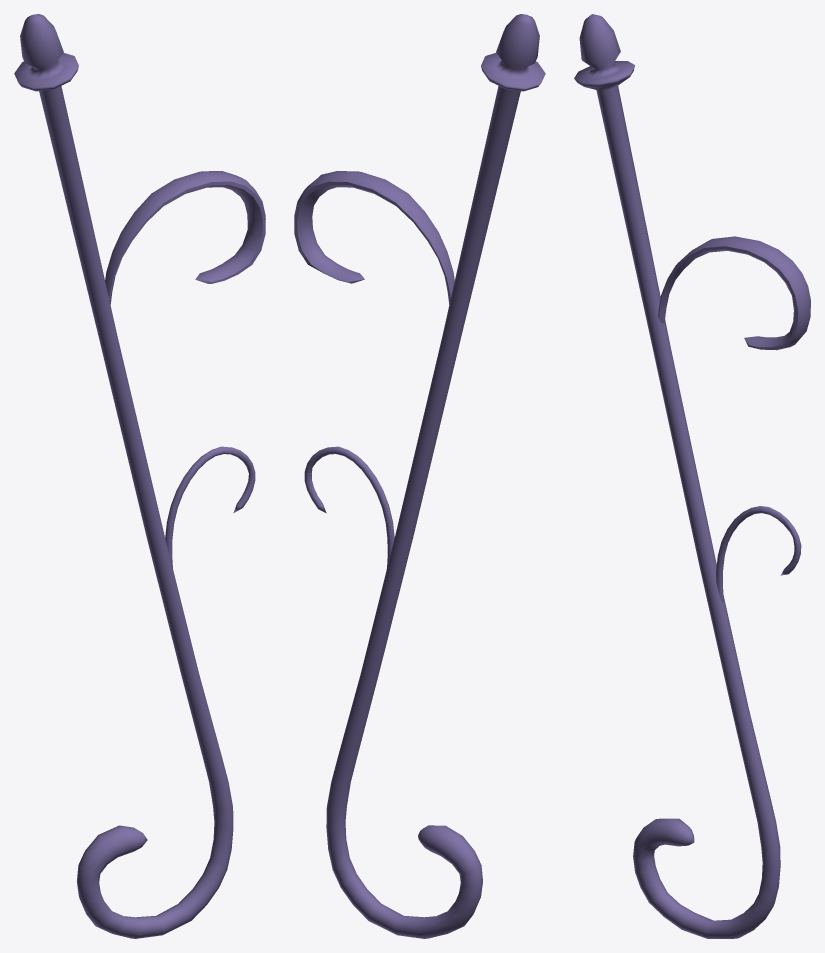
File: Torch.fbx
The picture shows the model from 3 angles, left to right: view 1: azimuth 30°, elevation 25°; view 2: azimuth 150°, elevation 25°; view 3: azimuth 330°, elevation 25°; orthographic projection. The views are drawn at different scales.
Parts seen in each view (by area): view 1: Torch; view 2: Torch; view 3: Torch.
Boxes of the visible parts, x1,y1,x2,y2 form: Torch: [14, 14, 265, 938]; Torch: [294, 14, 545, 938]; Torch: [574, 14, 810, 938].
Size of the model in its own units: 0.8178 by 3.05 by 0.184.
